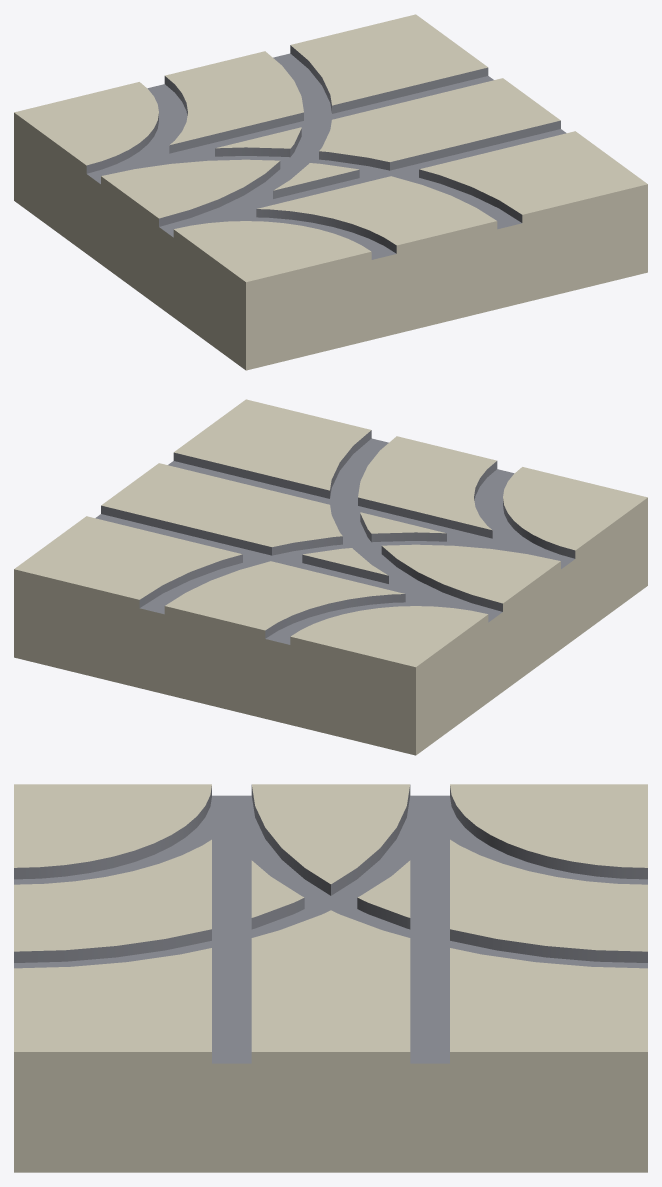
Rendered from tile267.fbx.
3 views of the same model, one above another, from view 1: azimuth 30°, elevation 25°; view 2: azimuth 150°, elevation 25°; view 3: azimuth 270°, elevation 25° (orthographic). The views are drawn at different scales.
Visible parts, largest first — view 1: tile267; view 2: tile267; view 3: tile267.
Boxes of the visible parts, x1,y1,x2,y2 form: tile267: (14,14,647,370); tile267: (14,399,647,755); tile267: (14,784,647,1172).
Bounding box in the file's own units: 10 × 2.1 × 10.
